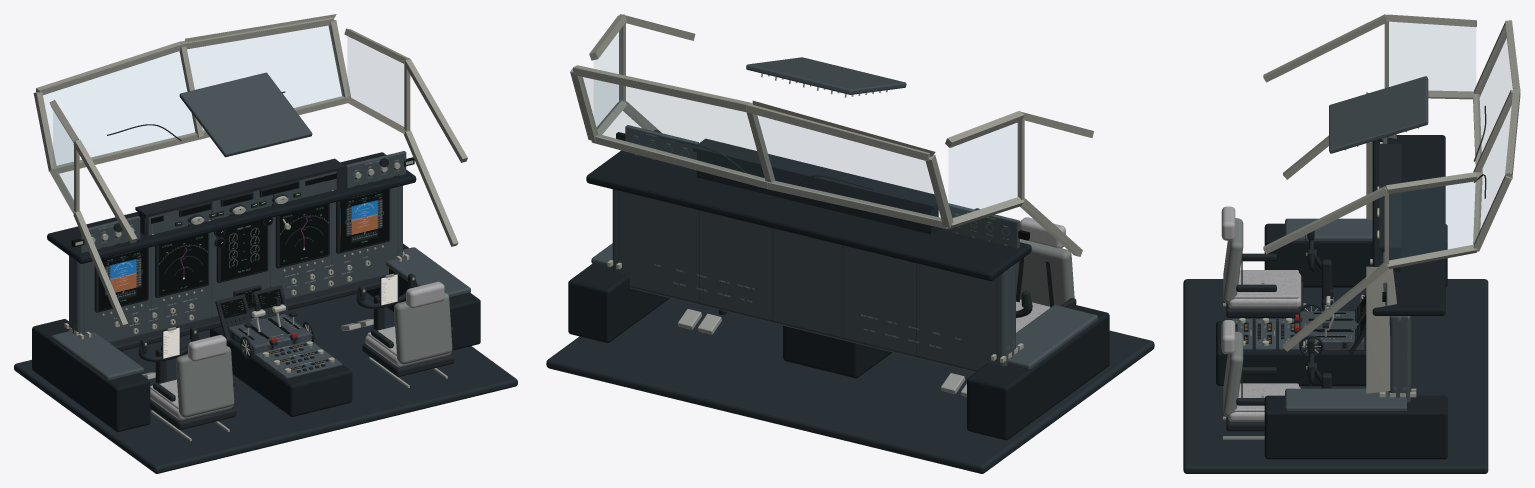
File: cockpit.glb
The picture shows the model from 3 angles, left to right: view 1: azimuth 30°, elevation 25°; view 2: azimuth 150°, elevation 25°; view 3: azimuth 270°, elevation 25°; orthographic projection. The views are drawn at different scales.
Parts seen in each view (by area): view 1: flight_deck_floor, instrument_panel_body, windshield_-1, windshield_1, overhead_console, side_console_-1, full_glareshield, center_pedestal, side_window_1, seat_back_1, seat_back_-1, glareshield (+31 smaller); view 2: instrument_panel_body, flight_deck_floor, full_glareshield, windshield_-1, windshield_1, side_console_-1, side_window_-1, side_console_1, mcp_chassis, glareshield, center_pedestal, overhead_console (+19 smaller); view 3: flight_deck_floor, side_console_1, full_glareshield, side_window_1, side_window_-1, overhead_console, center_pedestal, side_console_-1, front_sidewall_1, side_armrest_1, side_window_upper_frame_1, glareshield (+29 smaller).
Boxes of the visible parts, x1=… form: flight_deck_floor: x1=14, y1=292, x2=517, y2=473; instrument_panel_body: x1=69, y1=185, x2=402, y2=342; windshield_-1: x1=43, y1=52, x2=194, y2=160; windshield_1: x1=188, y1=26, x2=342, y2=130; overhead_console: x1=179, y1=72, x2=312, y2=157; side_console_-1: x1=32, y1=319, x2=150, y2=432; full_glareshield: x1=47, y1=152, x2=416, y2=263; center_pedestal: x1=210, y1=326, x2=352, y2=416; side_window_1: x1=348, y1=37, x2=403, y2=125; seat_back_1: x1=394, y1=293, x2=452, y2=364; seat_back_-1: x1=176, y1=346, x2=234, y2=417; glareshield: x1=135, y1=158, x2=345, y2=217; instrument_panel_body: x1=612, y1=189, x2=1015, y2=372; flight_deck_floor: x1=546, y1=298, x2=1154, y2=473; full_glareshield: x1=586, y1=150, x2=1031, y2=281; windshield_-1: x1=754, y1=115, x2=940, y2=219; windshield_1: x1=581, y1=77, x2=763, y2=179; side_console_-1: x1=967, y1=303, x2=1109, y2=440; side_window_-1: x1=949, y1=122, x2=1018, y2=217; side_console_1: x1=568, y1=264, x2=669, y2=342; mcp_chassis: x1=696, y1=152, x2=938, y2=234; glareshield: x1=693, y1=138, x2=937, y2=209; center_pedestal: x1=783, y1=325, x2=891, y2=378; overhead_console: x1=746, y1=57, x2=906, y2=97; flight_deck_floor: x1=1183, y1=279, x2=1488, y2=473; side_console_1: x1=1264, y1=395, x2=1447, y2=459; full_glareshield: x1=1372, y1=135, x2=1445, y2=315; side_window_1: x1=1389, y1=182, x2=1475, y2=259; side_window_-1: x1=1389, y1=22, x2=1475, y2=90; overhead_console: x1=1329, y1=76, x2=1428, y2=153; center_pedestal: x1=1216, y1=321, x2=1366, y2=385; side_console_-1: x1=1264, y1=223, x2=1447, y2=287; front_sidewall_1: x1=1366, y1=266, x2=1396, y2=393; side_armrest_1: x1=1285, y1=388, x2=1406, y2=412; side_window_upper_frame_1: x1=1263, y1=172, x2=1476, y2=254; glareshield: x1=1379, y1=144, x2=1401, y2=250.
Size of the model in its own units: 22.1 by 16.05 by 16.58.
27 materials, 12 textured.
